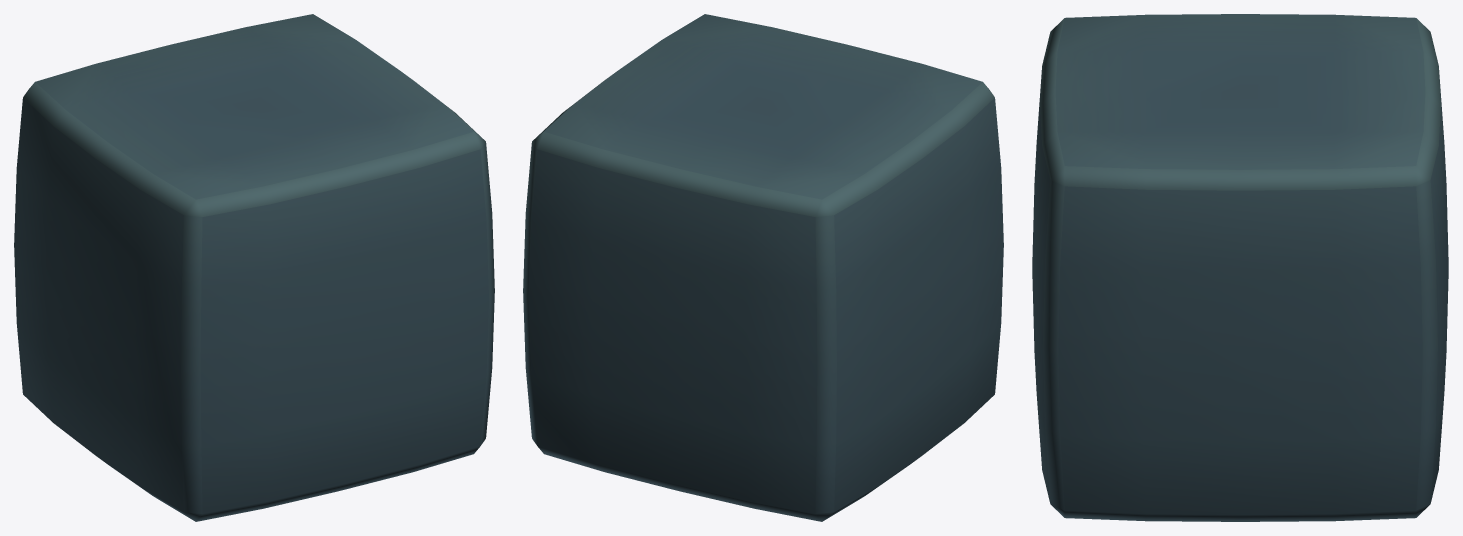
The model's file is cube_07_shade_5_LOD_setup.fbx.
3 views of the same model, side by side, from view 1: azimuth 30°, elevation 25°; view 2: azimuth 150°, elevation 25°; view 3: azimuth 270°, elevation 25° (orthographic). The views are drawn at different scales.
Parts seen in each view (by area): view 1: cube_07_shade_5_LOD0; view 2: cube_07_shade_5_LOD0; view 3: cube_07_shade_5_LOD0.
Boxes of the visible parts, <box> form: cube_07_shade_5_LOD0: <box>14,14,494,521</box>; cube_07_shade_5_LOD0: <box>523,14,1003,521</box>; cube_07_shade_5_LOD0: <box>1032,14,1448,521</box>.
Size of what is drawn, in the model's own units: 224 by 208 by 223.
